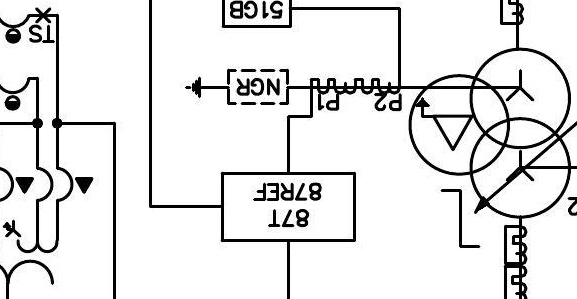11522_tx_ynyn0d1: (407, 46, 572, 220)
NGR_future: (184, 68, 290, 105)
